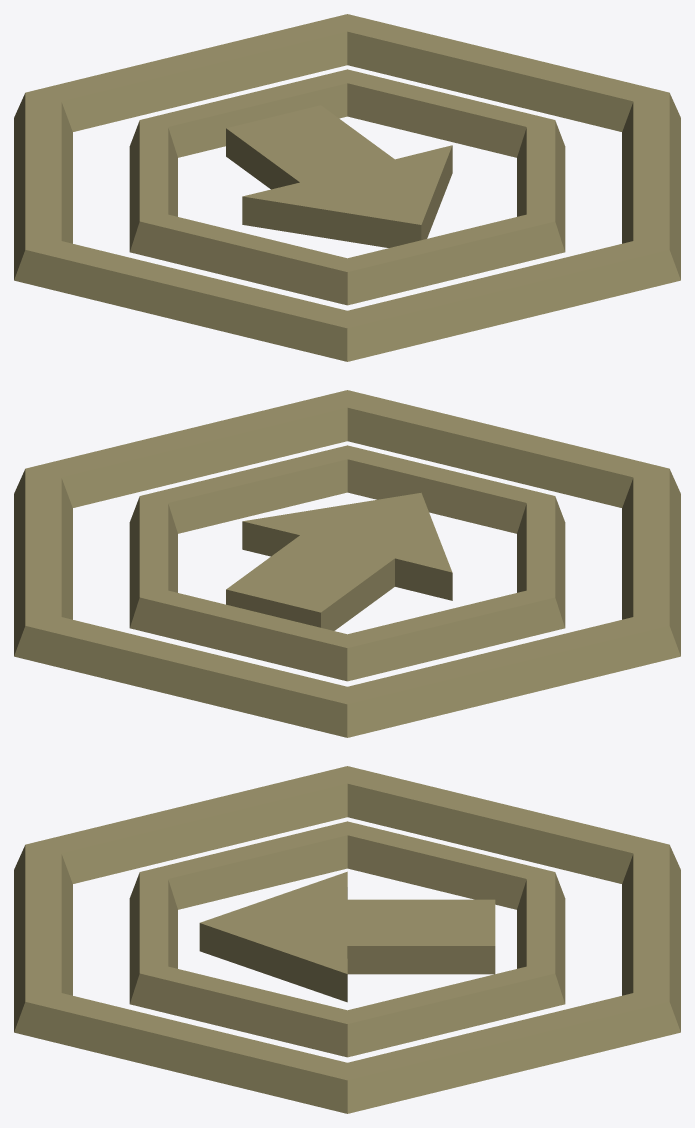
The model's file is Marker_StartPosition.FBX.
3 renders of one model, top to bottom at view 1: azimuth 30°, elevation 25°; view 2: azimuth 150°, elevation 25°; view 3: azimuth 270°, elevation 25°, orthographic.
Parts seen in each view (by area): view 1: 3DIcon_StartPosition_Marker; view 2: 3DIcon_StartPosition_Marker; view 3: 3DIcon_StartPosition_Marker.
Part boxes in pixels (box(x1,y1,x2,y2)): 3DIcon_StartPosition_Marker: box(14, 14, 680, 361); 3DIcon_StartPosition_Marker: box(14, 390, 680, 737); 3DIcon_StartPosition_Marker: box(14, 766, 680, 1113).
Bounding box in the file's own units: 1.53 × 0.0625 × 1.33.
